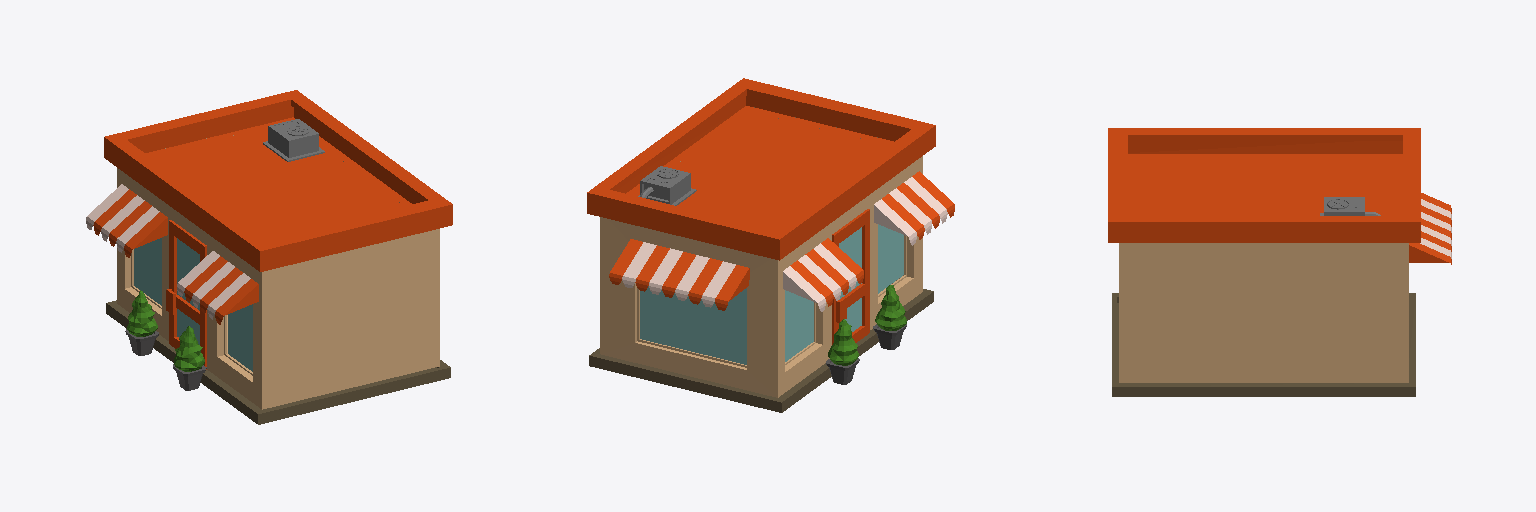
Rendered from shop_third.obj.
3 views of the same model, side by side, from view 1: azimuth 30°, elevation 25°; view 2: azimuth 150°, elevation 25°; view 3: azimuth 270°, elevation 25° (orthographic).
Parts seen in each view (by area): view 1: group1 tetto, group1 casaFBXASC032base, group1 tendaFBXASC032frontaleFBXASC032piccola, base group1, group1 porta, group1 cespugli, group1 vetroFBXASC032sx, group1 vetroFBXASC032dx, group1 cassettaFBXASC046001, group1 vetriFBXASC032porta, group1 piante; view 2: group1 tetto, group1 casaFBXASC032base, group1 tendaFBXASC032frontaleFBXASC032piccola, group1 tendaFBXASC032frontaleFBXASC046001, group1 vetroFBXASC032facciataFBXASC032sxx, base group1, group1 porta, group1 cespugli, group1 vetroFBXASC032sx, group1 vetroFBXASC032dx, group1 cassettaFBXASC046001, group1 piante (+1 smaller); view 3: group1 casaFBXASC032base, group1 tetto, base group1, group1 tendaFBXASC032frontaleFBXASC046001, group1 cassettaFBXASC046001.
Part boxes in pixels (left/top/right/bottom): group1 tetto: left=104, top=90, right=452, bottom=271; group1 casaFBXASC032base: left=117, top=135, right=439, bottom=409; group1 tendaFBXASC032frontaleFBXASC032piccola: left=86, top=184, right=258, bottom=324; base group1: left=106, top=300, right=450, bottom=424; group1 porta: left=166, top=220, right=206, bottom=369; group1 cespugli: left=127, top=290, right=204, bottom=371; group1 vetroFBXASC032sx: left=134, top=238, right=161, bottom=305; group1 vetroFBXASC032dx: left=228, top=304, right=252, bottom=371; group1 cassettaFBXASC046001: left=268, top=119, right=318, bottom=157; group1 vetriFBXASC032porta: left=177, top=238, right=199, bottom=344; group1 piante: left=125, top=329, right=206, bottom=390; group1 tetto: left=587, top=78, right=935, bottom=260; group1 casaFBXASC032base: left=600, top=107, right=922, bottom=397; group1 tendaFBXASC032frontaleFBXASC032piccola: left=783, top=171, right=954, bottom=311; group1 tendaFBXASC032frontaleFBXASC046001: left=609, top=239, right=749, bottom=310; group1 vetroFBXASC032facciataFBXASC032sxx: left=640, top=286, right=746, bottom=364; base group1: left=589, top=289, right=933, bottom=412; group1 porta: left=832, top=209, right=869, bottom=344; group1 cespugli: left=828, top=285, right=906, bottom=365; group1 vetroFBXASC032sx: left=785, top=290, right=813, bottom=361; group1 vetroFBXASC032dx: left=878, top=224, right=903, bottom=293; group1 cassettaFBXASC046001: left=640, top=166, right=690, bottom=204; group1 piante: left=826, top=324, right=906, bottom=384; group1 casaFBXASC032base: left=1119, top=243, right=1408, bottom=382; group1 tetto: left=1108, top=128, right=1420, bottom=242; base group1: left=1112, top=293, right=1415, bottom=396; group1 tendaFBXASC032frontaleFBXASC046001: left=1409, top=193, right=1451, bottom=264; group1 cassettaFBXASC046001: left=1324, top=197, right=1364, bottom=215.
Size of the model in its own units: 27.43 by 20.75 by 36.96.